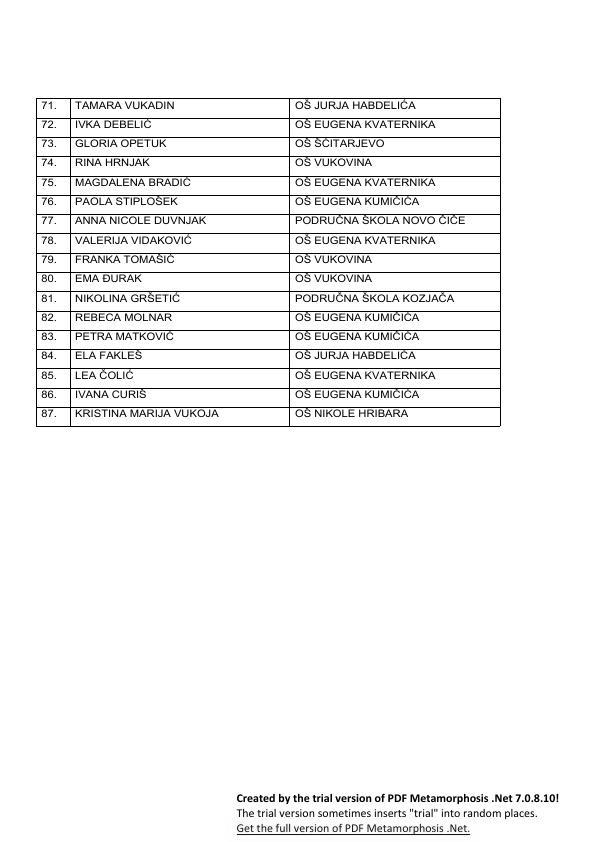table: (31, 89, 512, 435)
text: (230, 783, 566, 837)
